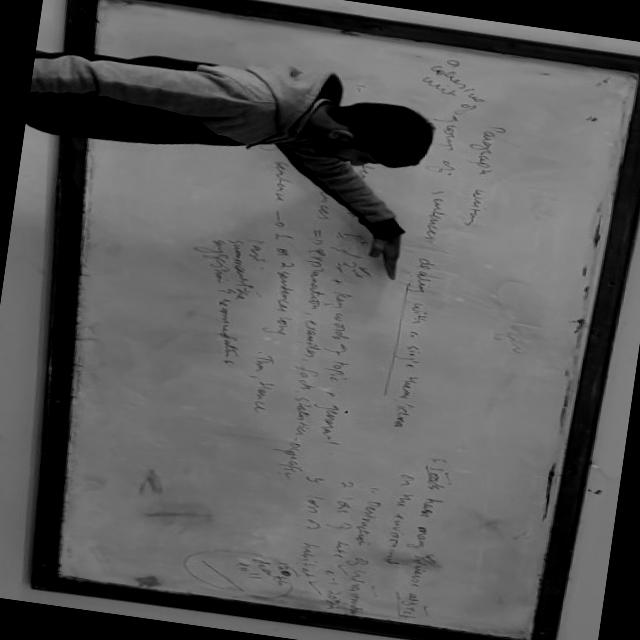Instructor: (22, 28, 466, 200)
White-board: (44, 0, 640, 640)
